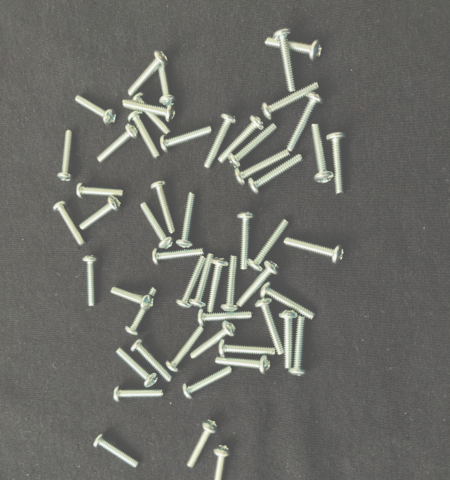longscrew: (287, 91, 328, 153), (248, 153, 305, 196), (218, 114, 266, 165), (227, 122, 279, 169), (261, 81, 321, 121), (247, 219, 291, 273), (260, 281, 317, 321), (234, 148, 292, 187), (236, 260, 281, 309), (130, 338, 174, 383), (128, 50, 170, 97), (165, 326, 206, 373), (204, 114, 239, 169), (189, 321, 238, 360), (132, 93, 174, 138), (182, 366, 234, 401), (116, 347, 160, 388), (185, 418, 220, 469), (93, 433, 141, 470), (255, 298, 285, 357), (125, 285, 159, 337), (97, 123, 140, 164), (175, 255, 207, 310), (273, 26, 299, 93), (140, 202, 176, 250), (284, 236, 345, 264), (128, 111, 161, 160), (310, 123, 336, 184), (53, 201, 87, 247), (264, 36, 324, 62), (79, 196, 122, 231), (326, 131, 349, 196), (159, 126, 214, 153), (150, 181, 177, 235), (189, 253, 215, 309), (74, 95, 117, 127), (122, 99, 177, 124), (206, 257, 230, 314), (288, 314, 308, 378), (175, 192, 197, 250), (215, 354, 273, 375), (236, 211, 256, 271), (111, 285, 155, 312), (279, 309, 298, 370), (218, 339, 277, 358), (198, 308, 254, 328), (221, 255, 240, 312), (152, 247, 206, 266), (82, 255, 101, 308), (56, 130, 75, 182), (75, 182, 126, 201), (112, 386, 165, 403), (158, 61, 177, 107), (211, 444, 233, 480)
